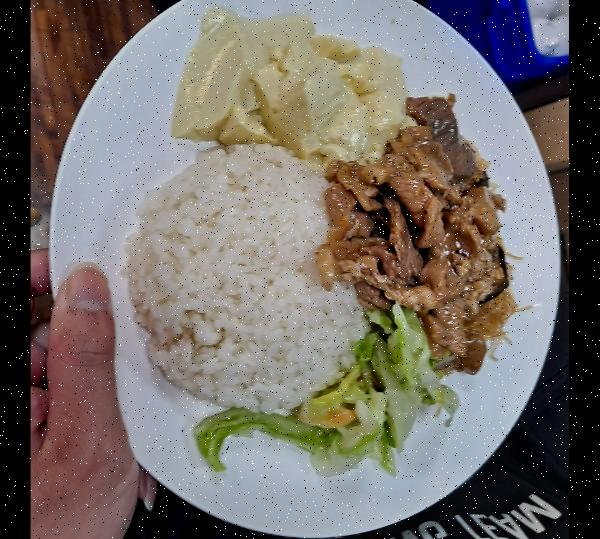plate: (44, 0, 563, 539)
sauteed pork: (330, 92, 516, 342)
side dish: (196, 322, 458, 489), (176, 7, 416, 159)
white rice: (122, 149, 373, 407)
